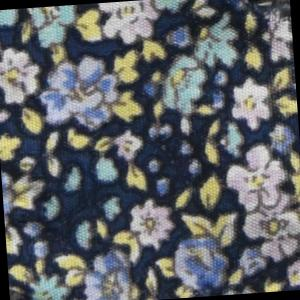Damage: (236, 1, 293, 38)
